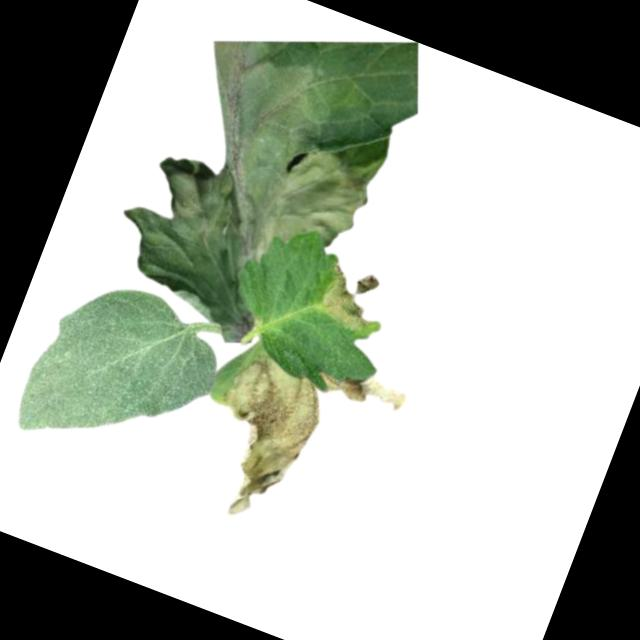Late_blight: (93, 9, 411, 368), (181, 351, 331, 533), (310, 256, 391, 338), (315, 358, 409, 419)
healthy: (9, 262, 235, 485)
